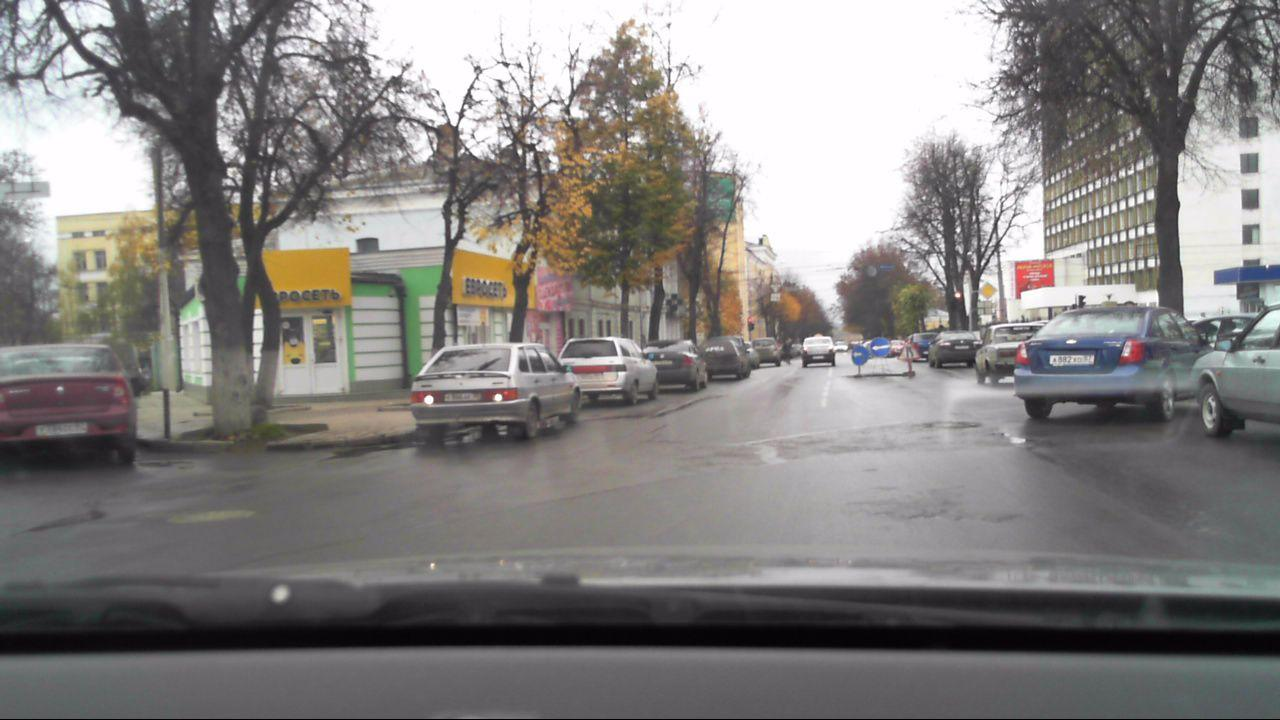1_20_2: (898, 339, 919, 361)
2_1: (979, 281, 997, 299)
4_2_2: (868, 335, 890, 358), (849, 344, 869, 366)
5_7_2: (879, 263, 897, 271)
8_13: (977, 299, 995, 316)
